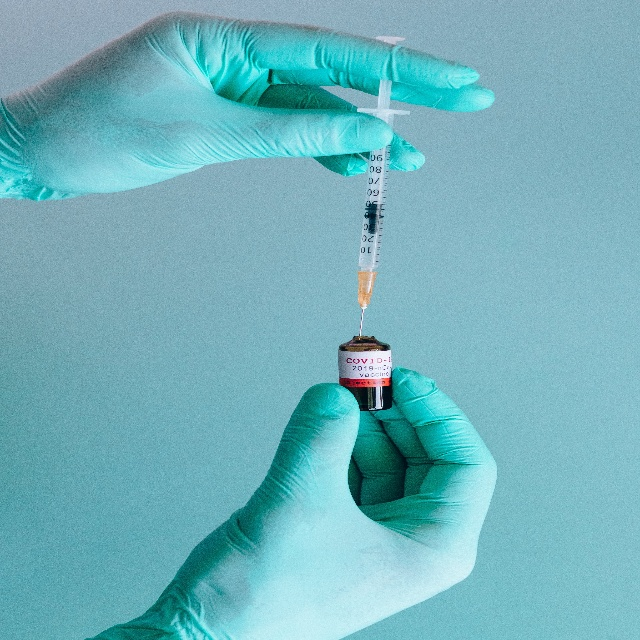Guantes: (93, 365, 498, 640), (0, 11, 496, 202)
